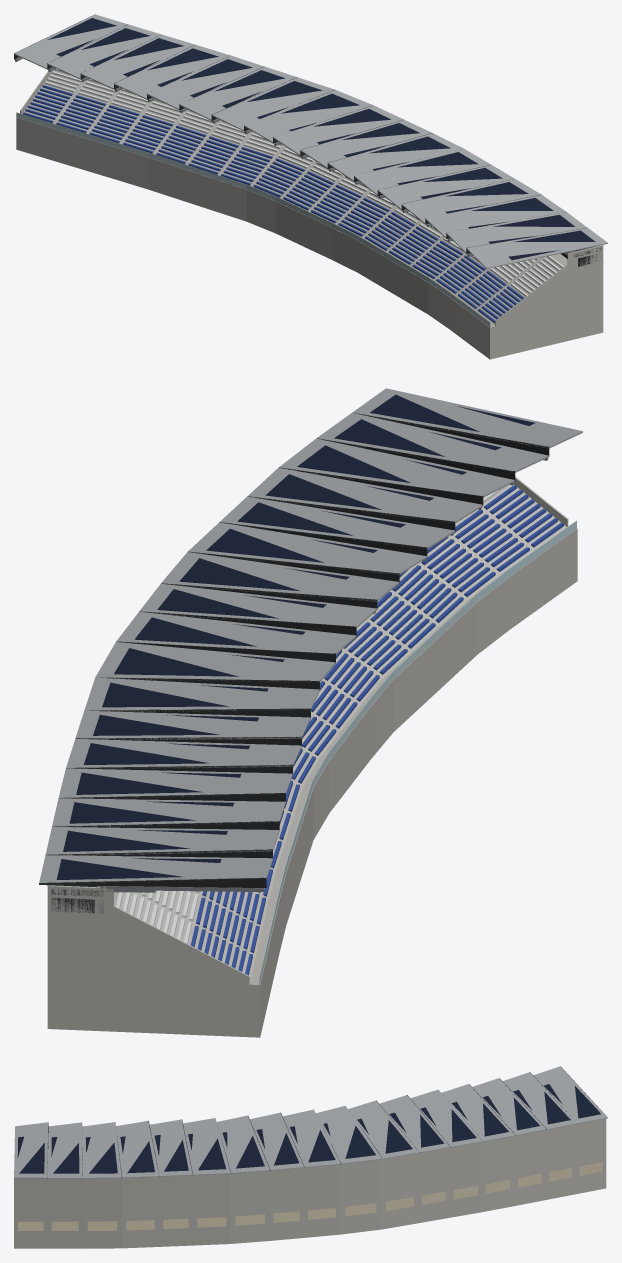
Rendered from rbr_nord.glb.
3 views of the same model, one above another, from view 1: azimuth 30°, elevation 25°; view 2: azimuth 150°, elevation 25°; view 3: azimuth 270°, elevation 25° (orthographic). The views are drawn at different scales.
Parts seen in each view (by area): view 1: red-bull-ring-nord; view 2: red-bull-ring-nord; view 3: red-bull-ring-nord.
Part boxes in pixels (left/top/right/bottom): red-bull-ring-nord: left=14, top=14, right=607, bottom=359; red-bull-ring-nord: left=39, top=388, right=582, bottom=1037; red-bull-ring-nord: left=14, top=1066, right=607, bottom=1248.
Bounding box in the file's own units: 57.98 × 20.7 × 139.
